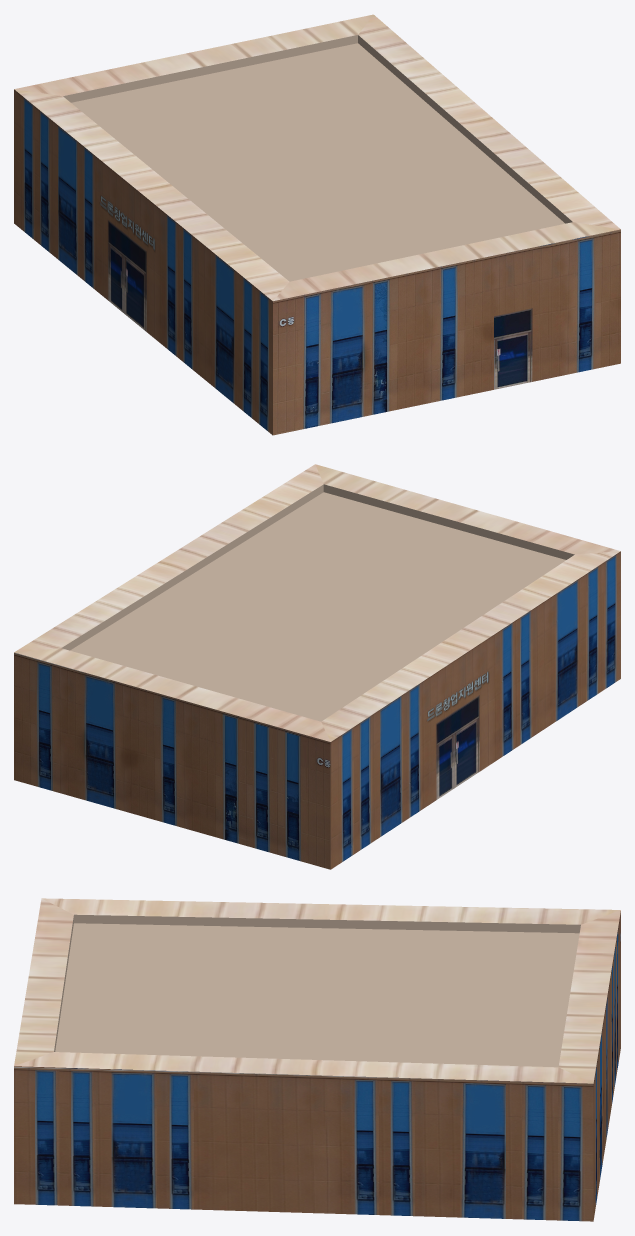
The model's file is ICJR1000.glb.
The picture shows the model from 3 angles, top to bottom: view 1: azimuth 30°, elevation 25°; view 2: azimuth 150°, elevation 25°; view 3: azimuth 270°, elevation 25°; orthographic projection. The views are drawn at different scales.
Visible parts, largest first — view 1: MainBuilding; view 2: MainBuilding; view 3: MainBuilding.
Part boxes in pixels (left/top/right/bottom): MainBuilding: left=14, top=14, right=620, bottom=435; MainBuilding: left=14, top=464, right=620, bottom=869; MainBuilding: left=14, top=898, right=620, bottom=1221.
Size of the model in its own units: 1.37 by 0.4759 by 1.9.
1 material, 1 textured.
